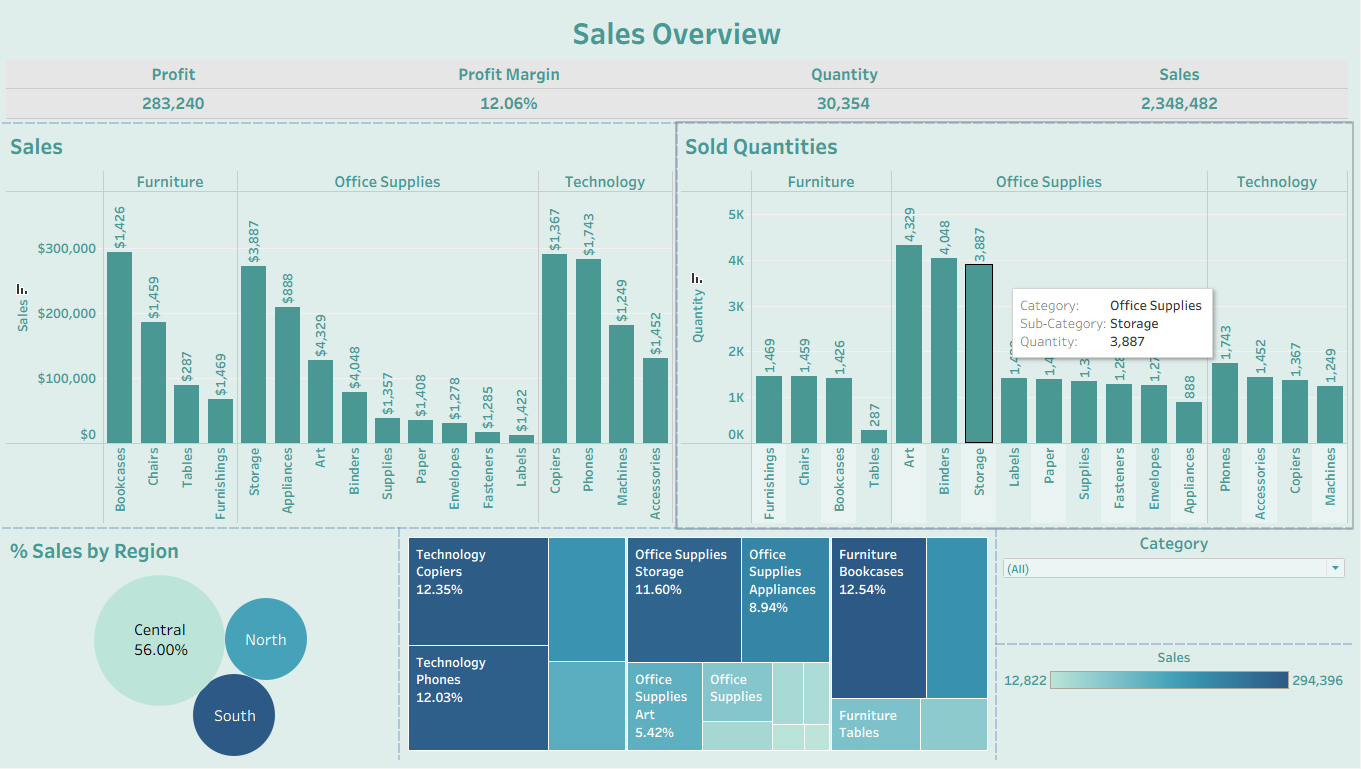

This screenshot's page, from the dashboard's own definition file:
{"tool":"tableau","page":{"name":"Sales Overview","canvas":[1366,768],"ordinal":0},"visuals":[{"type":"title","box":[8,8,1350,48]},{"type":"worksheet","title":"Cards","mark":"Automatic","box":[8,56,1350,67]},{"type":"worksheet","title":"Sales","mark":"Automatic","rows":["Sales"],"cols":["Category","Sub-Category"],"box":[8,123,675,405]},{"type":"worksheet","title":"Sold Quantities","mark":"Automatic","rows":["Quantity"],"cols":["Category","Sub-Category"],"box":[683,123,675,405]},{"type":"worksheet","title":"Bubble","mark":"Circle","box":[8,528,397,232]},{"type":"worksheet","title":"TreeMap","mark":"Automatic","box":[405,528,597.4,232]},{"type":"filter","title":"TreeMap","param":"[federated.0h1augd0w69tni14vrruc0n6nzv2].[none:Category:nk]","box":[1002.4,528,355.6,116]},{"type":"legend","title":"TreeMap","param":"[federated.0h1augd0w69tni14vrruc0n6nzv2].[sum:Sales:qk]","box":[1002.4,644,355.6,116]}]}

Visuals, with their boxes in screenshot pixels (x1, y1, x2, y2), scaled from the page's 1366x768 canvas onto the 1361x769 screenshot:
title: [x1=8, y1=8, x2=1353, y2=56]
"Cards" worksheet: [x1=8, y1=56, x2=1353, y2=123]
"Sales" worksheet: [x1=8, y1=123, x2=680, y2=529]
"Sold Quantities" worksheet: [x1=680, y1=123, x2=1353, y2=529]
"Bubble" worksheet (Circle marks): [x1=8, y1=529, x2=404, y2=761]
"TreeMap" worksheet: [x1=404, y1=529, x2=999, y2=761]
"TreeMap" filter: [x1=999, y1=529, x2=1353, y2=645]
"TreeMap" legend: [x1=999, y1=645, x2=1353, y2=761]
